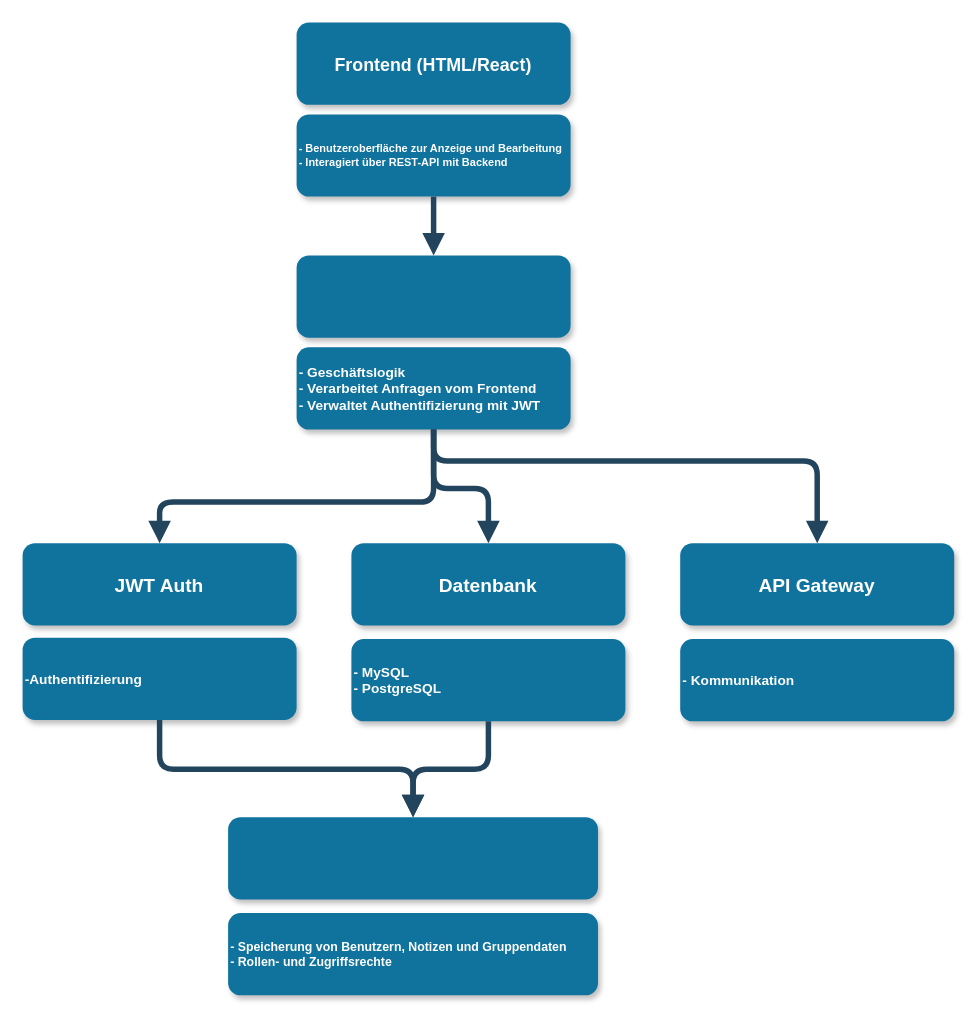
This 977x1018 diagram has some shape labels left out. Each missing label, with the centre of its shape:
"Backend (Spring Boot)" belongs at point 434,298.
"Benutzer, Notizen, Gruppenverwaltung" belongs at point 414,859.
